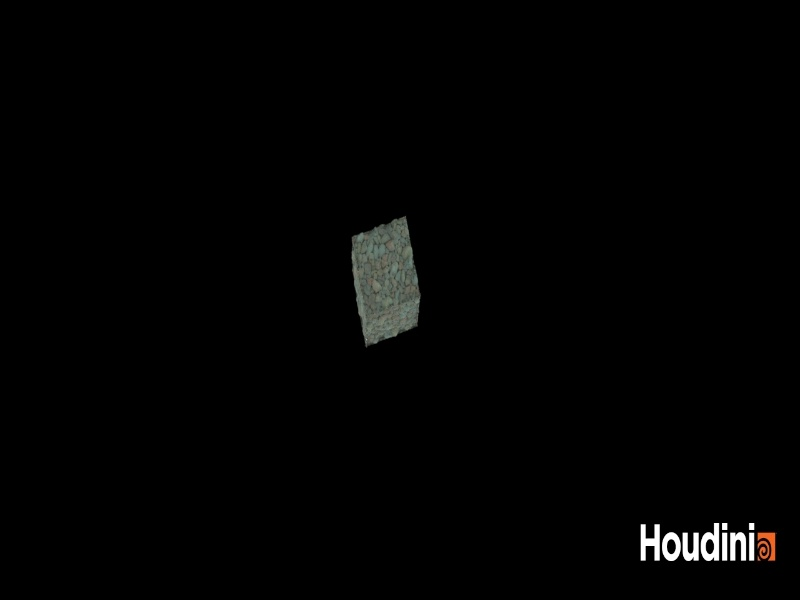waste: (343, 208, 429, 352)
